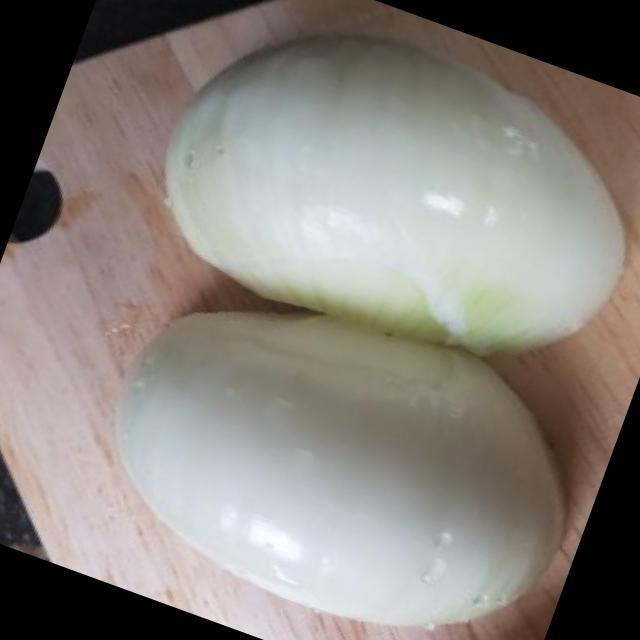Onion: (114, 311, 566, 621), (164, 41, 623, 346)
